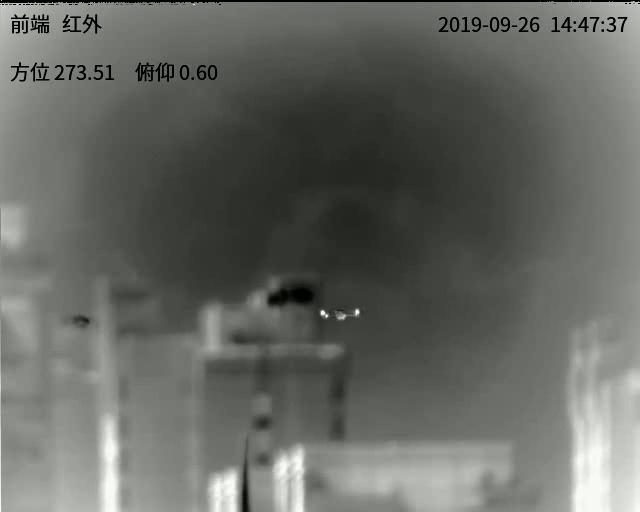DRONE: (316, 307, 361, 321)
